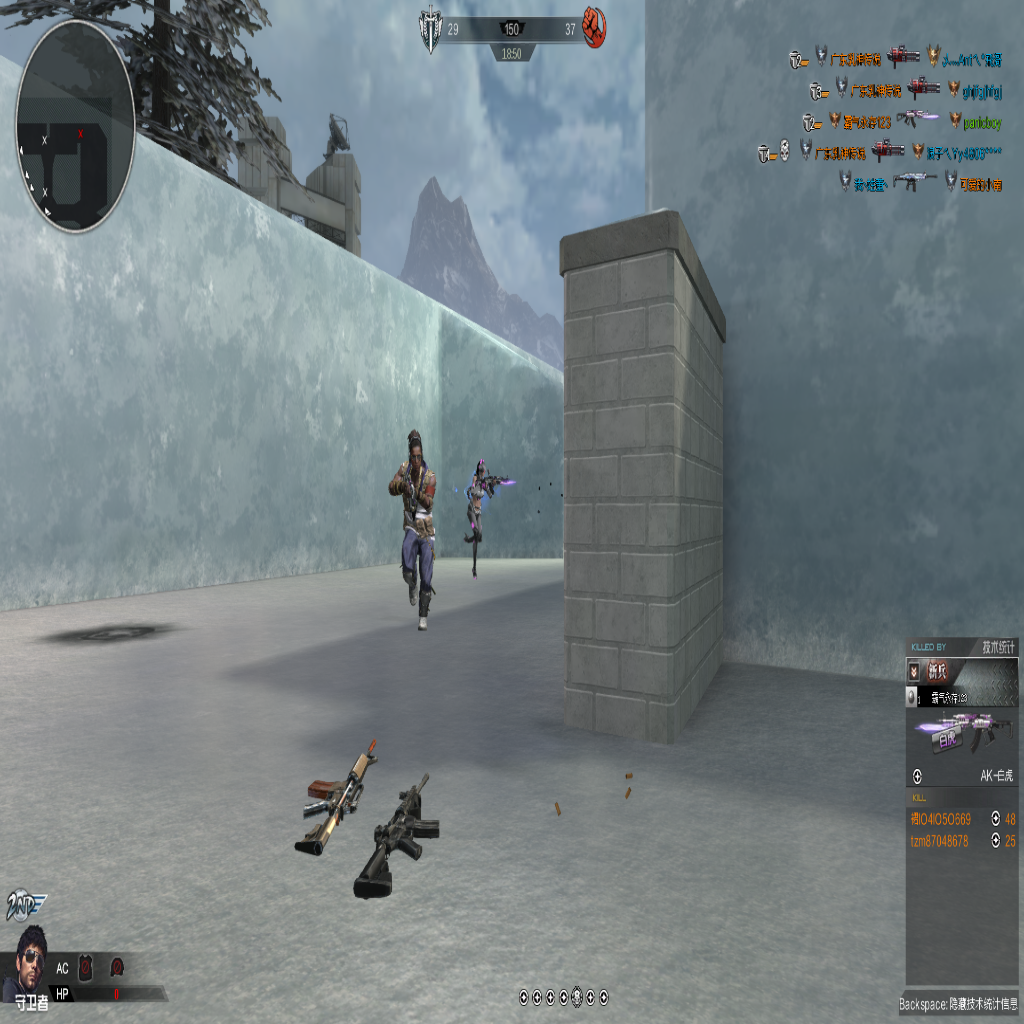tt: (389, 428, 436, 620)
